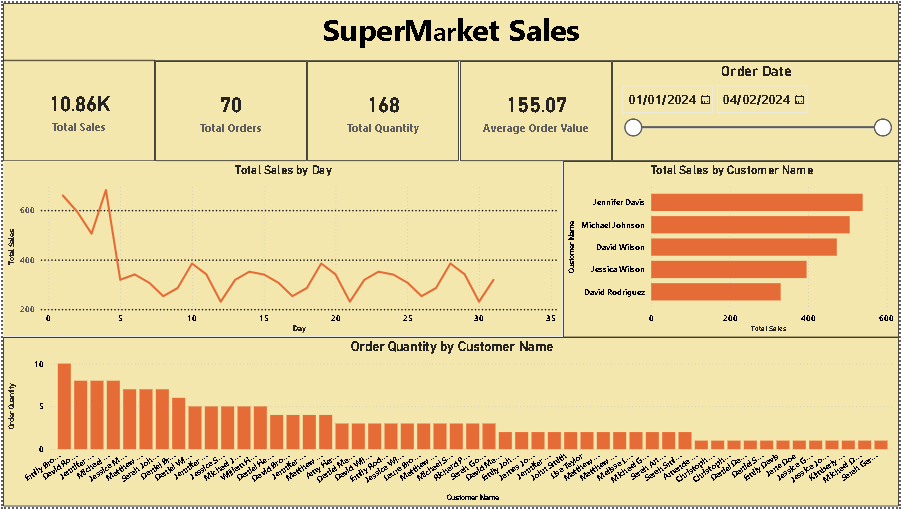

The page's visual inventory and layout, read from the dashboard file:
{"tool":"powerbi","page":{"name":"Page 1","canvas":[1280,720],"ordinal":0},"visuals":[{"type":"card","fields":{"Values":["SuperMarket Sales.Total Sales"]},"box":[0,79.8,217.5,145.9],"z":0},{"type":"lineChart","fields":{"Y":["SuperMarket Sales.Total Sales"],"Category":["SuperMarket Sales.Order Date.Variation.Date Hierarchy.Day"]},"box":[0,225.7,799.7,251.9],"z":1000},{"type":"clusteredBarChart","fields":{"Category":["SuperMarket Sales.Customer Name"],"Y":["SuperMarket Sales.Total Sales"]},"box":[799.7,225.7,480.3,251.9],"z":2000},{"type":"columnChart","title":"Order Quantity by Customer Name","fields":{"Y":["SuperMarket Sales.Order Quantity"],"Category":["SuperMarket Sales.Customer Name"]},"box":[0,477.6,1280,242.2],"z":3000},{"type":"slicer","title":"Order Date","fields":{"Values":["SuperMarket Sales.Order Date"]},"box":[869.8,82.6,410.2,143.1],"z":5000},{"type":"card","fields":{"Values":["SuperMarket Sales.Total Orders"]},"box":[217.5,82.6,217.5,143.1],"z":6000},{"type":"card","fields":{"Values":["SuperMarket Sales.Total Quantity"]},"box":[434.9,82.6,217.5,143.1],"z":7000},{"type":"card","fields":{"Values":["SuperMarket Sales.Average Order Value"]},"box":[652.4,82.6,217.5,143.1],"z":8000},{"type":"textbox","box":[0,0,1280,82.6],"z":9000}]}

Visuals, with their boxes in screenshot pixels (x1, y1, x2, y2), scaled from the page's 1280x720 canvas onto the 901x510 screenshot:
card - SuperMarket Sales.Total Sales: (0,57,153,160)
lineChart - SuperMarket Sales.Total Sales x SuperMarket Sales.Order Date.Variation.Date Hierarchy.Day: (0,160,563,338)
clusteredBarChart - SuperMarket Sales.Customer Name x SuperMarket Sales.Total Sales: (563,160,900,338)
"Order Quantity by Customer Name" columnChart: (0,338,900,509)
"Order Date" slicer: (612,59,900,160)
card - SuperMarket Sales.Total Orders: (153,59,306,160)
card - SuperMarket Sales.Total Quantity: (306,59,459,160)
card - SuperMarket Sales.Average Order Value: (459,59,612,160)
textbox: (0,0,900,59)
